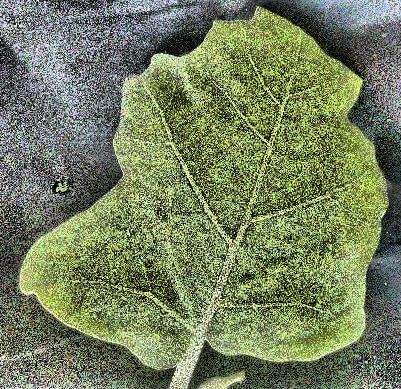HEALTHY: (0, 1, 401, 389)
